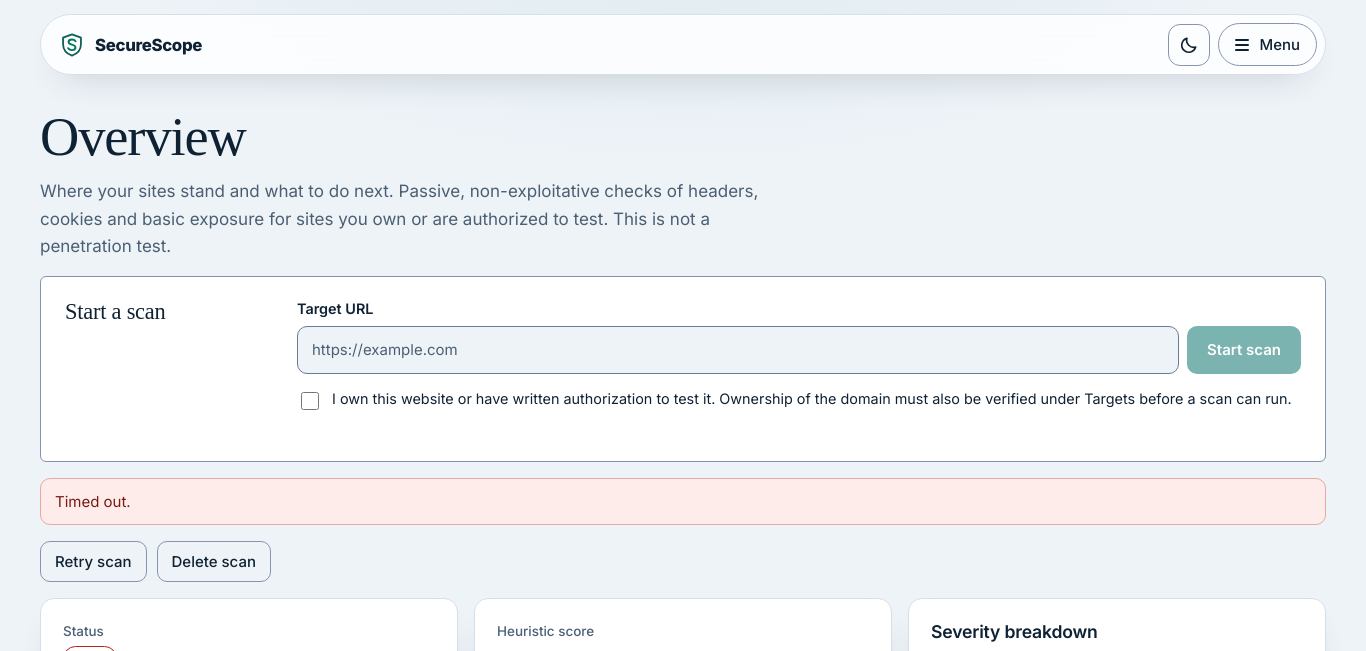
it: cancelling and retrying from a scan › shows the server's reason when a retry is refused
Step 1. Click the button "Retry scan" → (93, 561), box top-left (40, 541), bottom-right (146, 582)
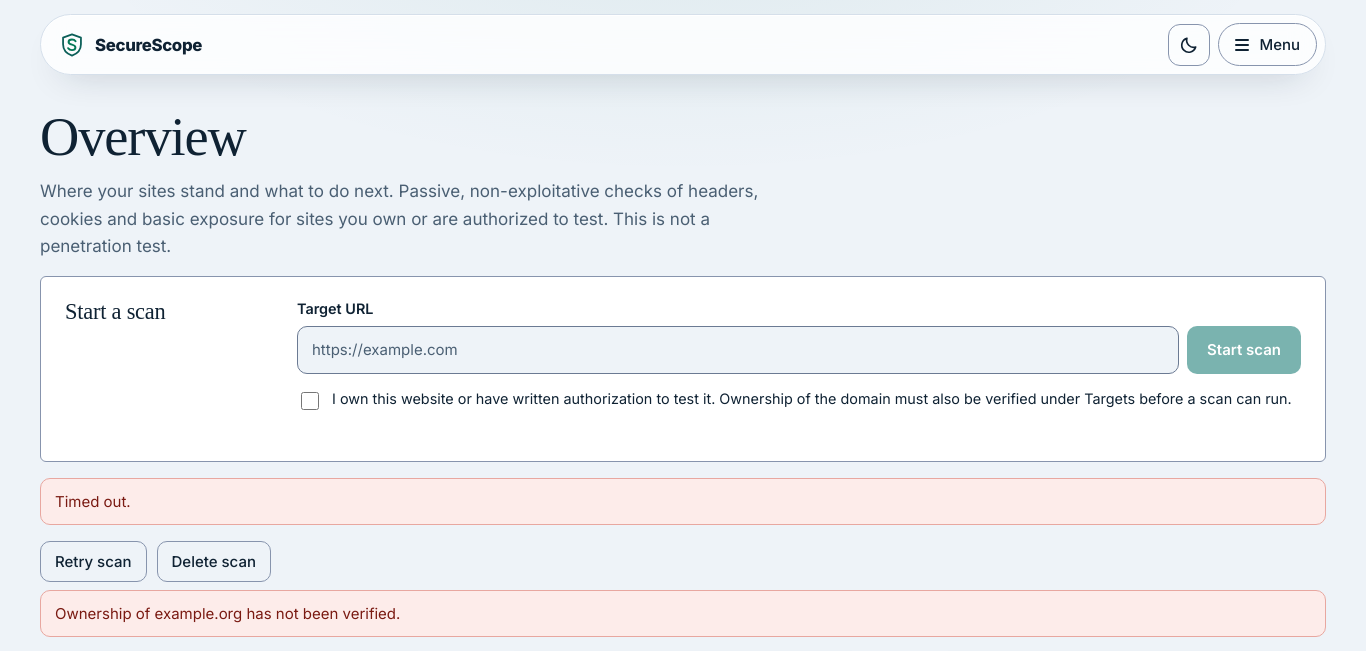
Check: the text "Ownership of example.org has not been verified." is shown, box top-left (40, 590), bottom-right (1326, 637)
